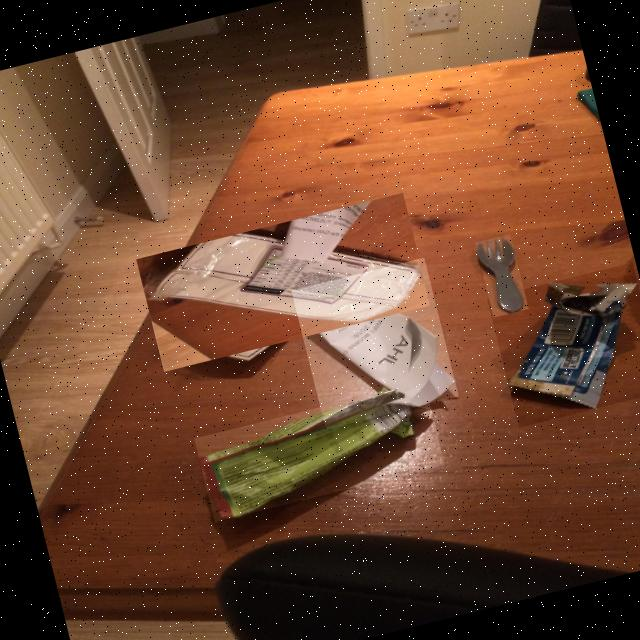Normal paper: (295, 281, 455, 405)
Other plastic: (199, 388, 431, 518), (509, 282, 638, 408)
Plastic film: (145, 231, 422, 322)
Plastic utensils: (477, 236, 523, 313)
